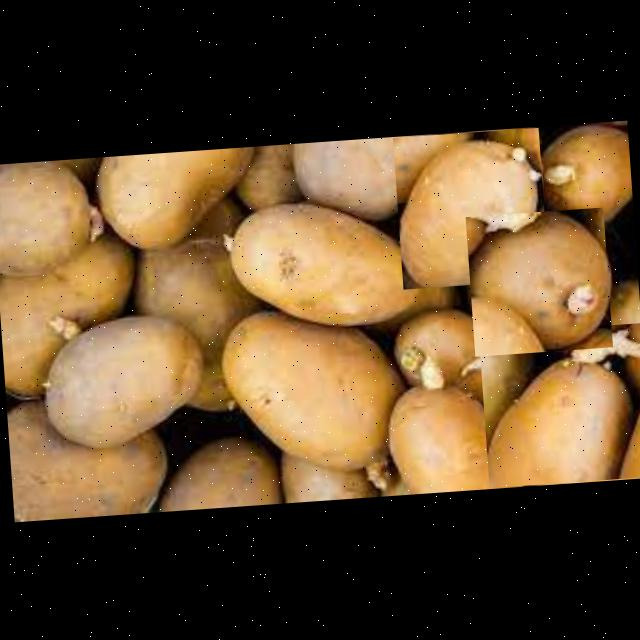Sprouted potato: (204, 191, 436, 337), (26, 296, 221, 452), (477, 321, 640, 487), (392, 126, 548, 288), (376, 332, 530, 494), (464, 206, 612, 356)
